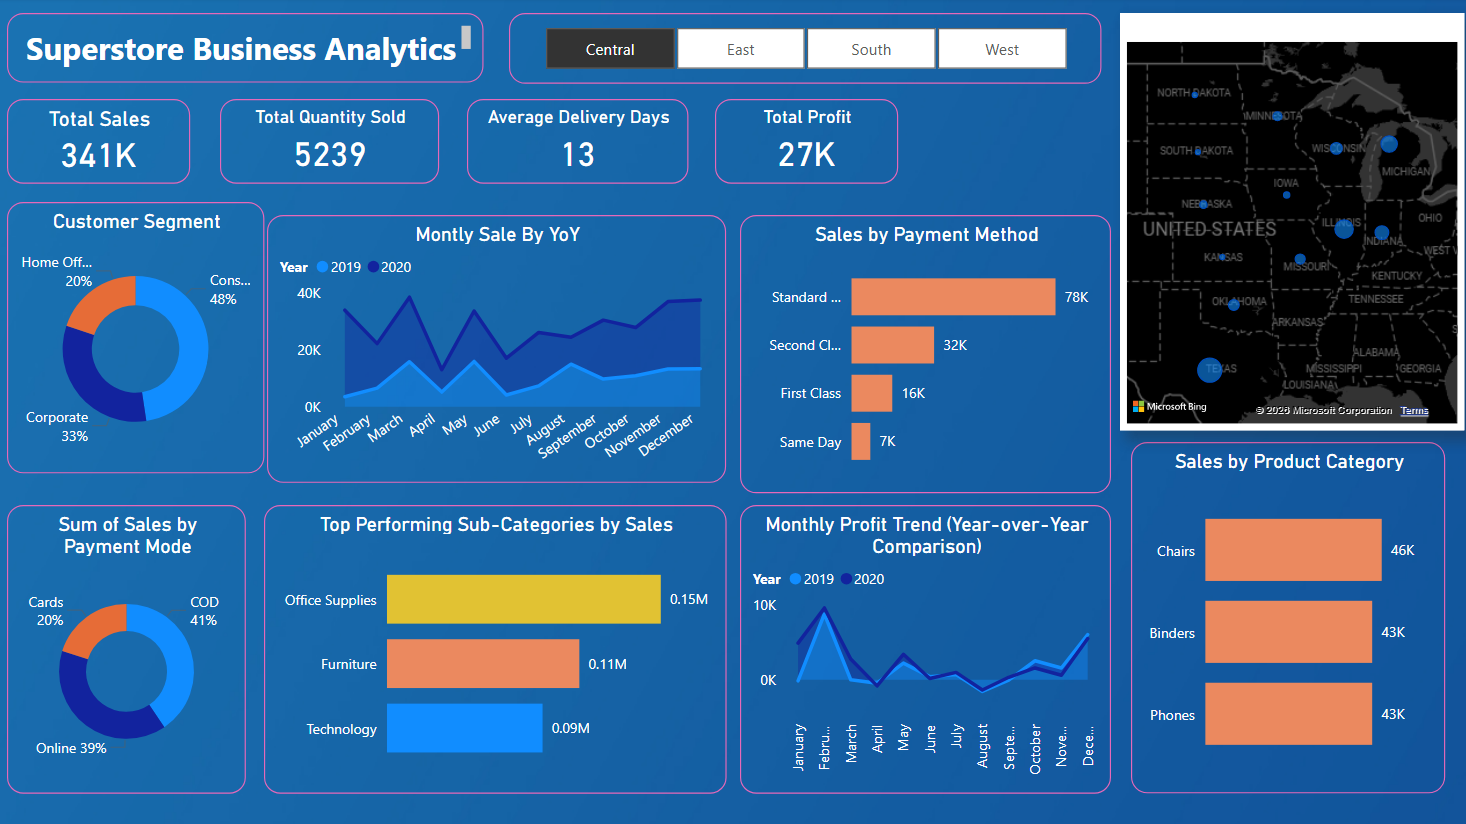

The page's visual inventory and layout, read from the dashboard file:
{"tool":"powerbi","page":{"name":"Page 1","canvas":[1280,720],"ordinal":0},"visuals":[{"type":"clusteredBarChart","title":"Top Performing Sub-Categories by Sales","fields":{"Category":["SuperStore_Sales_Dataset.Category"],"Y":["Sum(SuperStore_Sales_Dataset.Sales)"]},"box":[233.4,437.7,398.8,249],"z":0},{"type":"clusteredBarChart","title":"Sales by Product Category","fields":{"Category":["SuperStore_Sales_Dataset.Sub-Category"],"Y":["Sum(SuperStore_Sales_Dataset.Sales)"]},"box":[981.4,383.2,271.4,303.5],"z":1000},{"type":"clusteredBarChart","title":"Sales by Payment Method","fields":{"Category":["SuperStore_Sales_Dataset.Ship Mode"],"Y":["Sum(SuperStore_Sales_Dataset.Sales)"]},"box":[643.9,186.7,320,240.2],"z":2000},{"type":"stackedAreaChart","title":"Montly Sale By YoY","fields":{"Category":["SuperStore_Sales_Dataset.Order Date.Variation.Date Hierarchy.Month","SuperStore_Sales_Dataset.Order Date.Variation.Date Hierarchy.Day"],"Y":["Sum(SuperStore_Sales_Dataset.Sales)"],"Series":["SuperStore_Sales_Dataset.Order Date.Variation.Date Hierarchy.Year"]},"box":[236.4,186.7,395.9,231.5],"z":3000},{"type":"stackedAreaChart","title":"Monthly Profit Trend (Year-over-Year Comparison)","fields":{"Category":["SuperStore_Sales_Dataset.Order Date.Variation.Date Hierarchy.Month","SuperStore_Sales_Dataset.Order Date.Variation.Date Hierarchy.Day"],"Series":["SuperStore_Sales_Dataset.Order Date.Variation.Date Hierarchy.Year"],"Y":["Sum(SuperStore_Sales_Dataset.Profit)"]},"box":[643.9,437.7,320,249],"z":4000},{"type":"map","title":"Profit by Geographic Location","fields":{"Category":["SuperStore_Sales_Dataset.State"],"Size":["Sum(SuperStore_Sales_Dataset.Sales)"]},"box":[971.7,12.6,296.7,359.9],"z":5000},{"type":"donutChart","title":"Customer Segment","fields":{"Category":["SuperStore_Sales_Dataset.Segment"],"Y":["Sum(SuperStore_Sales_Dataset.Sales)"]},"box":[11.7,176,221.8,234.4],"z":6000},{"type":"donutChart","fields":{"Category":["SuperStore_Sales_Dataset.Payment Mode"],"Y":["Sum(SuperStore_Sales_Dataset.Sales)"]},"box":[11.7,437.7,206.2,249],"z":7000},{"type":"slicer","fields":{"Values":["SuperStore_Sales_Dataset.Region"]},"box":[445.5,12.6,510.6,61.3],"z":8000},{"type":"textbox","box":[11.7,12.6,411.4,60.3],"z":9000},{"type":"card","title":"Total Sales","fields":{"Values":["Sum(SuperStore_Sales_Dataset.Sales)"]},"box":[11.7,87.5,157.6,72.9],"z":10000},{"type":"card","title":"Total Quantity Sold","fields":{"Values":["Sum(SuperStore_Sales_Dataset.Quantity)"]},"box":[195.5,87.5,188.7,72.9],"z":11000},{"type":"card","title":"Average Delivery Days","fields":{"Values":["Avg(SuperStore_Sales_Dataset.AvgDelivery)"]},"box":[408.5,87.5,190.6,72.9],"z":12000},{"type":"card","title":"Total Profit","fields":{"Values":["Sum(SuperStore_Sales_Dataset.Profit)"]},"box":[622.5,87.5,157.6,72.9],"z":13000}]}

Visuals, with their boxes in screenshot pixels (x1, y1, x2, y2), scaled from the page's 1280x720 canvas onto the 1466x824 screenshot:
"Top Performing Sub-Categories by Sales" clusteredBarChart: <region>267, 501, 724, 786</region>
"Sales by Product Category" clusteredBarChart: <region>1124, 439, 1435, 786</region>
"Sales by Payment Method" clusteredBarChart: <region>737, 214, 1104, 489</region>
"Montly Sale By YoY" stackedAreaChart: <region>271, 214, 724, 479</region>
"Monthly Profit Trend (Year-over-Year Comparison)" stackedAreaChart: <region>737, 501, 1104, 786</region>
"Profit by Geographic Location" map: <region>1113, 14, 1453, 426</region>
"Customer Segment" donutChart: <region>13, 201, 267, 470</region>
donutChart - SuperStore_Sales_Dataset.Payment Mode x Sum(SuperStore_Sales_Dataset.Sales): <region>13, 501, 250, 786</region>
slicer - SuperStore_Sales_Dataset.Region: <region>510, 14, 1095, 85</region>
textbox: <region>13, 14, 485, 83</region>
"Total Sales" card: <region>13, 100, 194, 184</region>
"Total Quantity Sold" card: <region>224, 100, 440, 184</region>
"Average Delivery Days" card: <region>468, 100, 686, 184</region>
"Total Profit" card: <region>713, 100, 893, 184</region>
